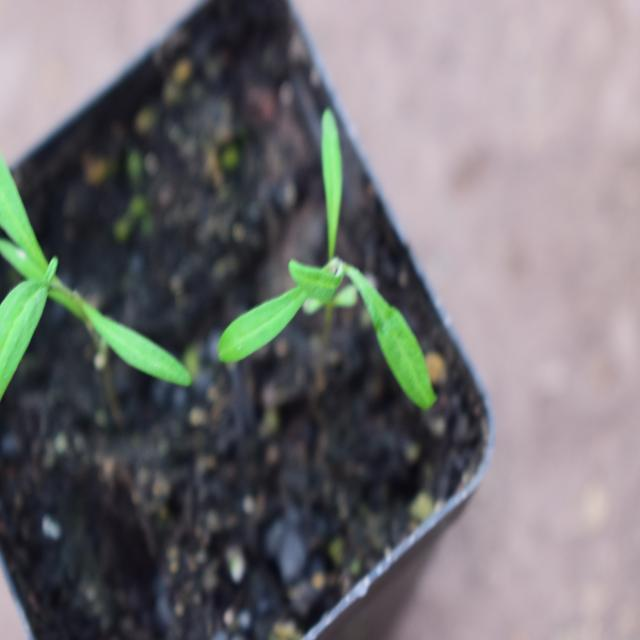white_smart_weed: (208, 140, 451, 428)
